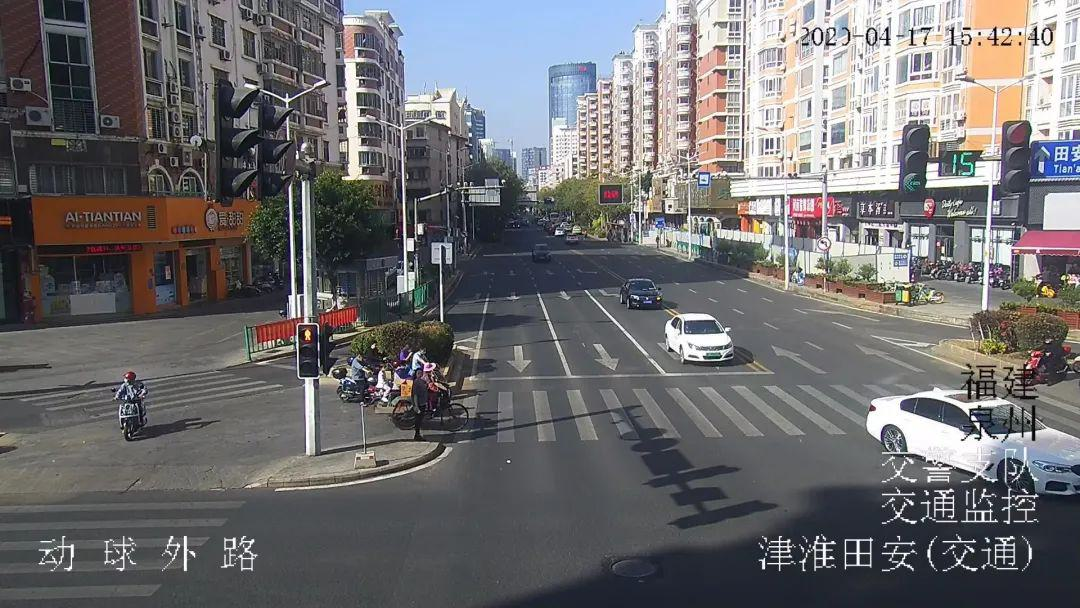bicycle: (387, 381, 472, 423)
car: (863, 366, 1080, 515), (652, 303, 754, 381), (609, 265, 666, 311), (523, 241, 551, 258), (555, 224, 568, 238), (569, 232, 580, 246)
motorbike: (99, 382, 150, 448), (328, 360, 386, 406)
person: (398, 365, 443, 442)
